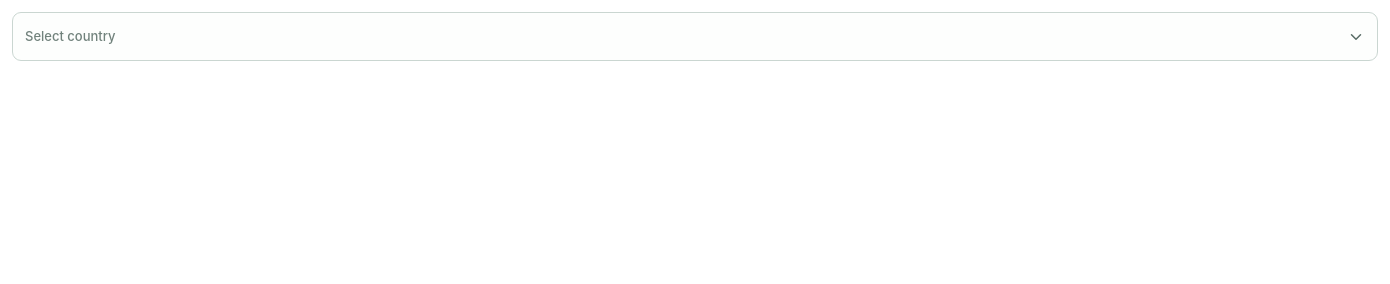
Test: flag selector › shows flag images in a searchable custom list
Later steps or results of the test are not shown.
Click the button "Select country".
click(70, 36)  # box x1=12 y1=12 x2=1378 y2=61
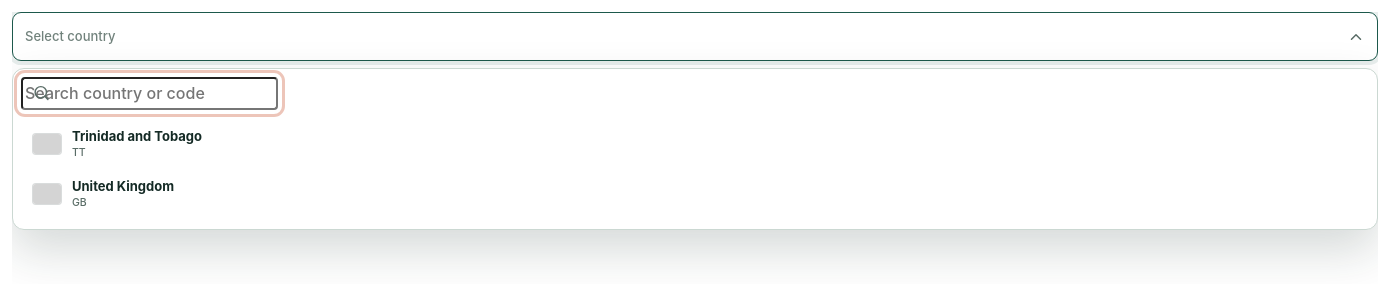
Type "United" into the search field labelled "Search country".
click(150, 93); type("United")  # box x1=21 y1=77 x2=278 y2=110
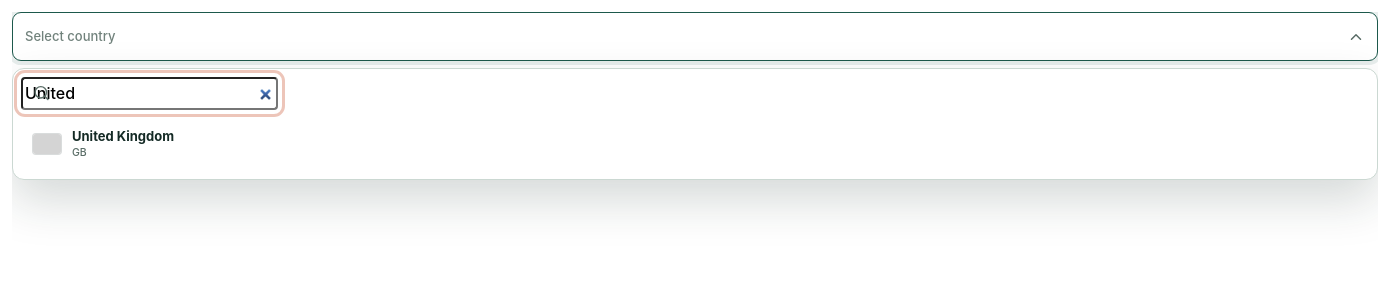
Now the option "Trinidad and Tobago" is gone
